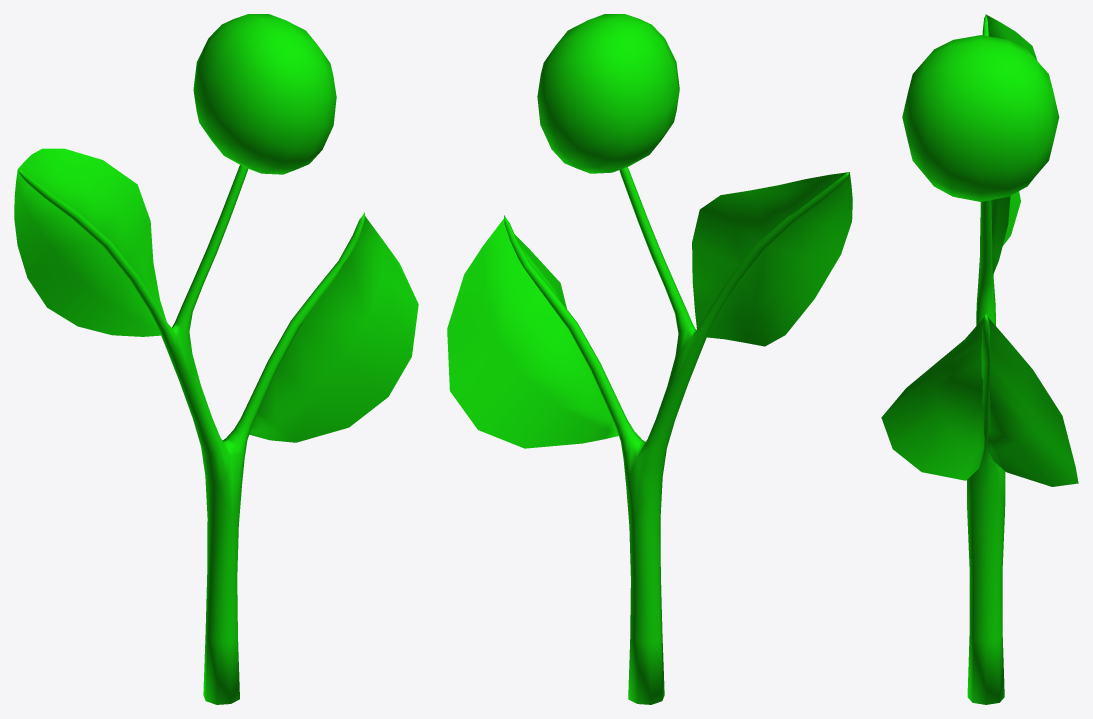
File: Plant.fbx
The picture shows the model from 3 angles, left to right: view 1: azimuth 30°, elevation 25°; view 2: azimuth 150°, elevation 25°; view 3: azimuth 270°, elevation 25°; orthographic projection.
Visible parts, largest first — view 1: Plant; view 2: Plant; view 3: Plant.
Part boxes in pixels (bbox=[...]): Plant: bbox=[14, 14, 418, 704]; Plant: bbox=[447, 14, 852, 704]; Plant: bbox=[881, 14, 1078, 704].
Bounding box in the file's own units: 22.67 × 39.22 × 10.39.
